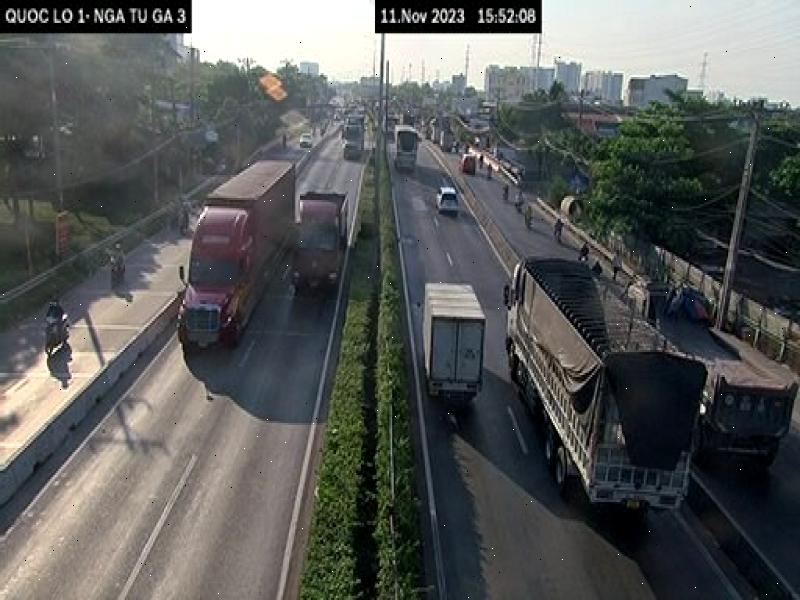truck: (512, 254, 707, 527), (626, 267, 797, 485), (178, 163, 298, 354), (423, 280, 488, 398), (293, 184, 352, 296), (394, 124, 420, 171)
